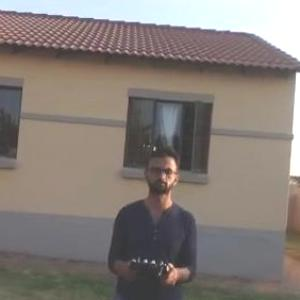follow: (100, 134, 199, 299)
